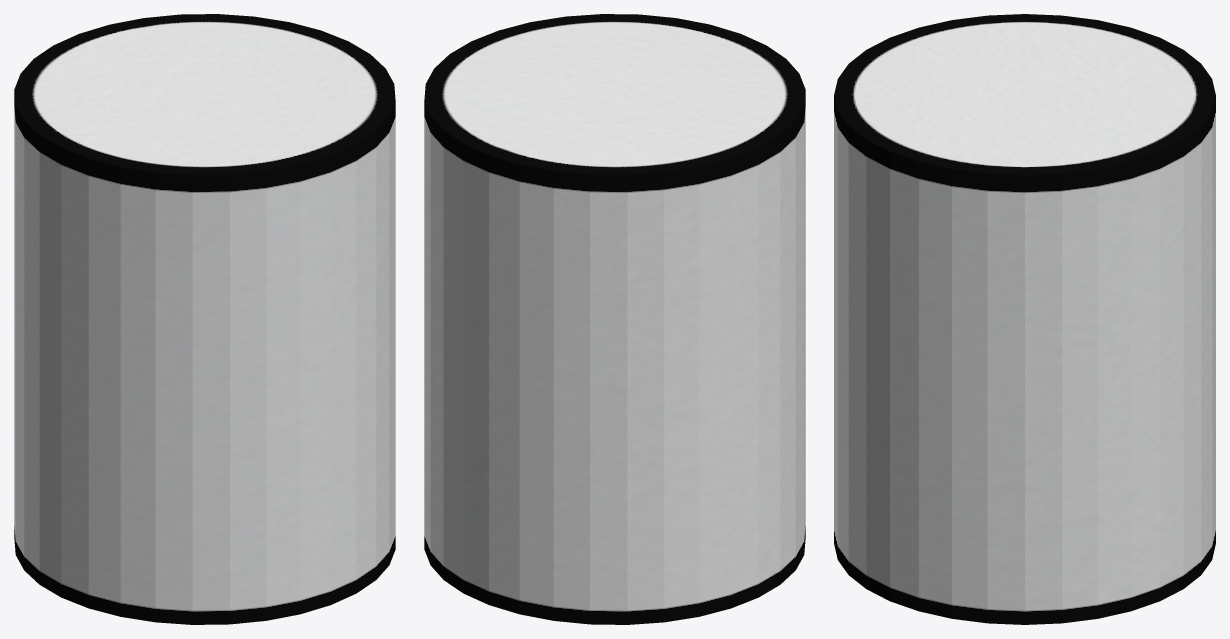
The model's file is player.obj.
3 views of the same model, side by side, from view 1: azimuth 30°, elevation 25°; view 2: azimuth 150°, elevation 25°; view 3: azimuth 270°, elevation 25° (orthographic).
Parts seen in each view (by area): view 1: Cylinder; view 2: Cylinder; view 3: Cylinder.
Part boxes in pixels (x1=…): Cylinder: x1=14, y1=14, x2=395, y2=624; Cylinder: x1=424, y1=14, x2=805, y2=624; Cylinder: x1=834, y1=14, x2=1215, y2=624.
Size of the model in its own units: 0.6658 by 0.8656 by 0.6658.
Materials: 1 (1 with a texture image).
